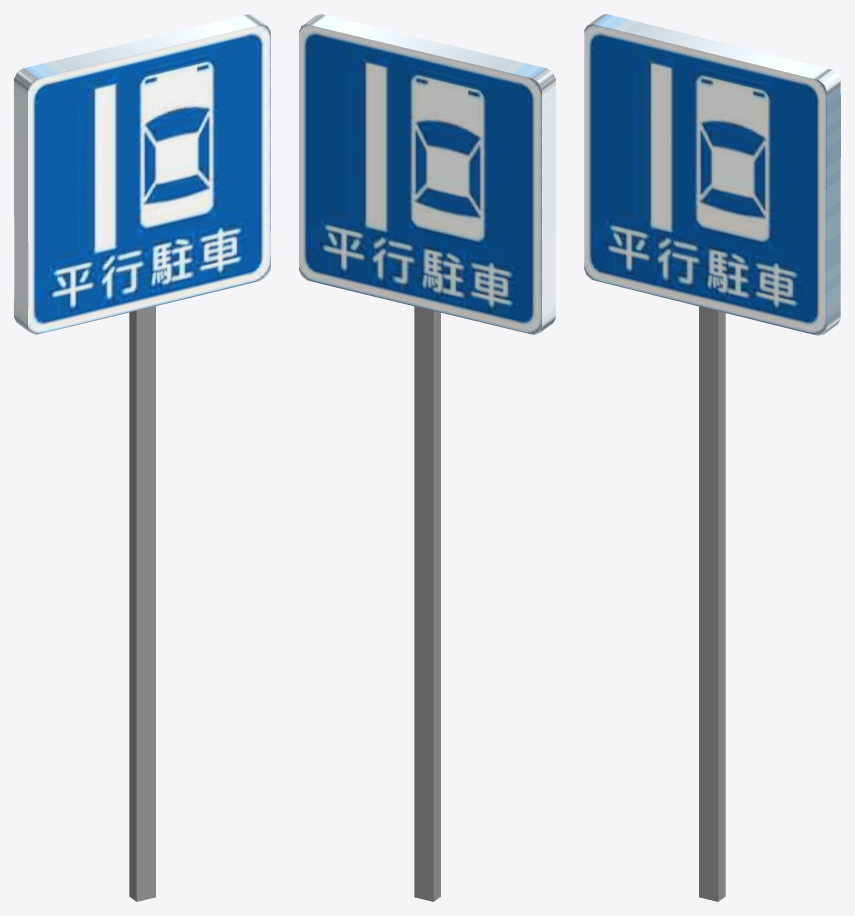
The model's file is 44516b7a-abd5-4191-9767-b33e65a88625.glb.
The picture shows the model from 3 angles, left to right: view 1: azimuth 30°, elevation 25°; view 2: azimuth 150°, elevation 25°; view 3: azimuth 330°, elevation 25°; orthographic projection.
Visible parts, largest first — view 1: AsianBlueSign.003; view 2: AsianBlueSign.003; view 3: AsianBlueSign.003.
Boxes of the visible parts, box(x1,y1,x2,y2) form: AsianBlueSign.003: box(14, 14, 270, 901); AsianBlueSign.003: box(299, 14, 555, 901); AsianBlueSign.003: box(584, 14, 840, 901).
Size of what is drawn, in the model's own units: 0.6092 by 2.04 by 0.0608.
Materials: 2 (2 with a texture image).
